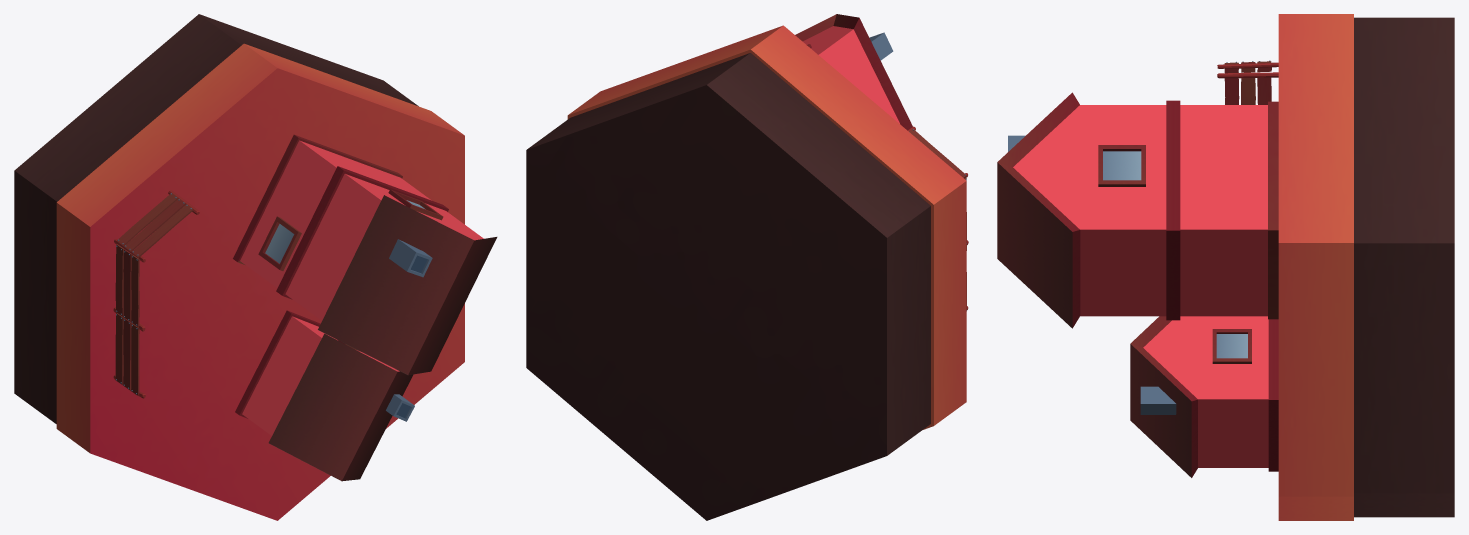
File: DORF_S_BURN.fbx
3 renders of one model, left to right at view 1: azimuth 30°, elevation 25°; view 2: azimuth 150°, elevation 25°; view 3: azimuth 270°, elevation 25°, orthographic. The views are drawn at different scales.
Visible parts, largest first — view 1: DORF_S_BURN; view 2: DORF_S_BURN; view 3: DORF_S_BURN.
Part boxes in pixels (x1,y1,x2,y2): DORF_S_BURN: (14, 14, 497, 520); DORF_S_BURN: (526, 14, 968, 520); DORF_S_BURN: (997, 14, 1454, 520).
Size of the model in its own units: 172 by 199 by 163.
